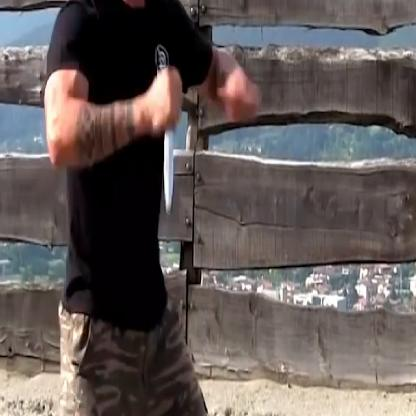knife: (154, 62, 182, 218)
